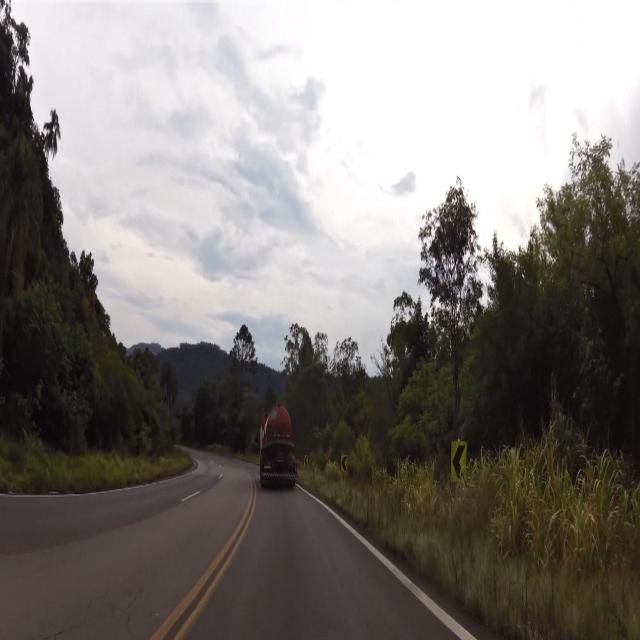Del: (448, 432, 469, 491)
